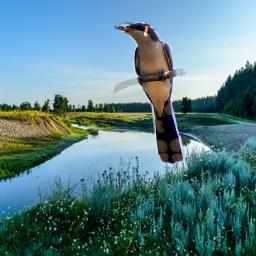Cuckoo: (114, 22, 186, 166)
